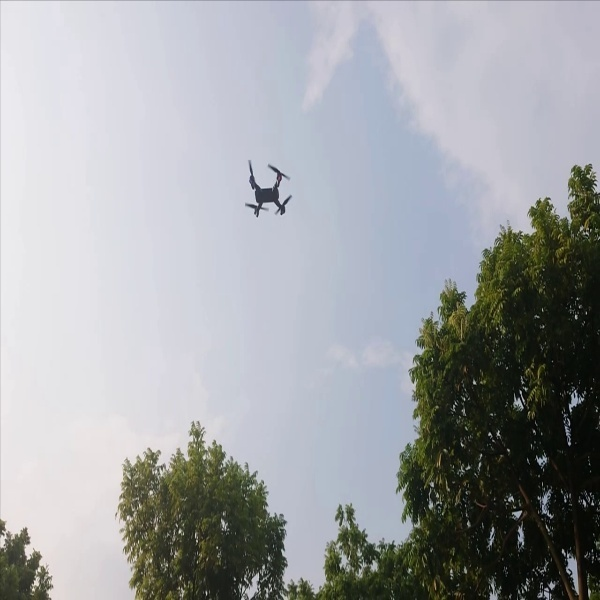drone: (235, 158, 297, 220)
